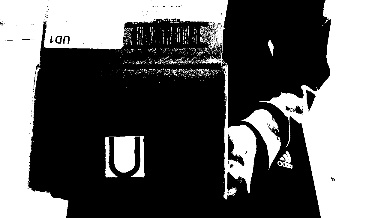U: (103, 136, 143, 176)
